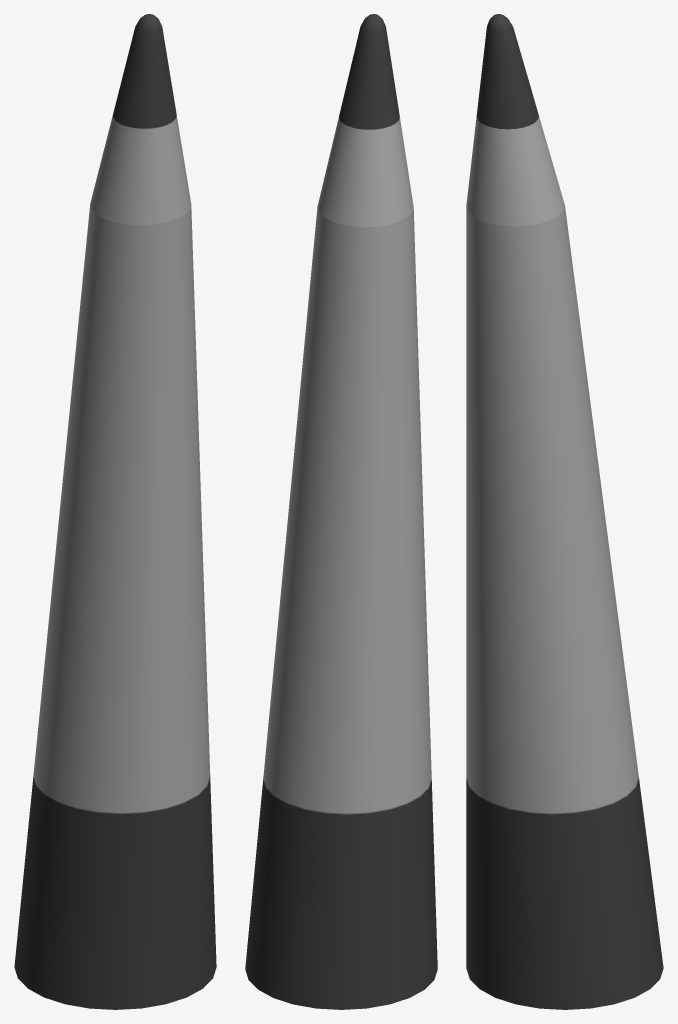
The model's file is tantares_lv_booster_fuel_tank_s1p5_1.obj.
3 views of the same model, side by side, from view 1: azimuth 30°, elevation 25°; view 2: azimuth 150°, elevation 25°; view 3: azimuth 270°, elevation 25° (orthographic). The views are drawn at different scales.
Visible parts, largest first — view 1: tantares_lv_booster_fuel_tank_s1p5_1; view 2: tantares_lv_booster_fuel_tank_s1p5_1; view 3: tantares_lv_booster_fuel_tank_s1p5_1.
Boxes of the visible parts, <box> form: tantares_lv_booster_fuel_tank_s1p5_1: <box>14,14,216,1009</box>; tantares_lv_booster_fuel_tank_s1p5_1: <box>245,14,437,1009</box>; tantares_lv_booster_fuel_tank_s1p5_1: <box>466,14,663,1009</box>.
Bounding box in the file's own units: 1.88 × 10 × 1.88.
